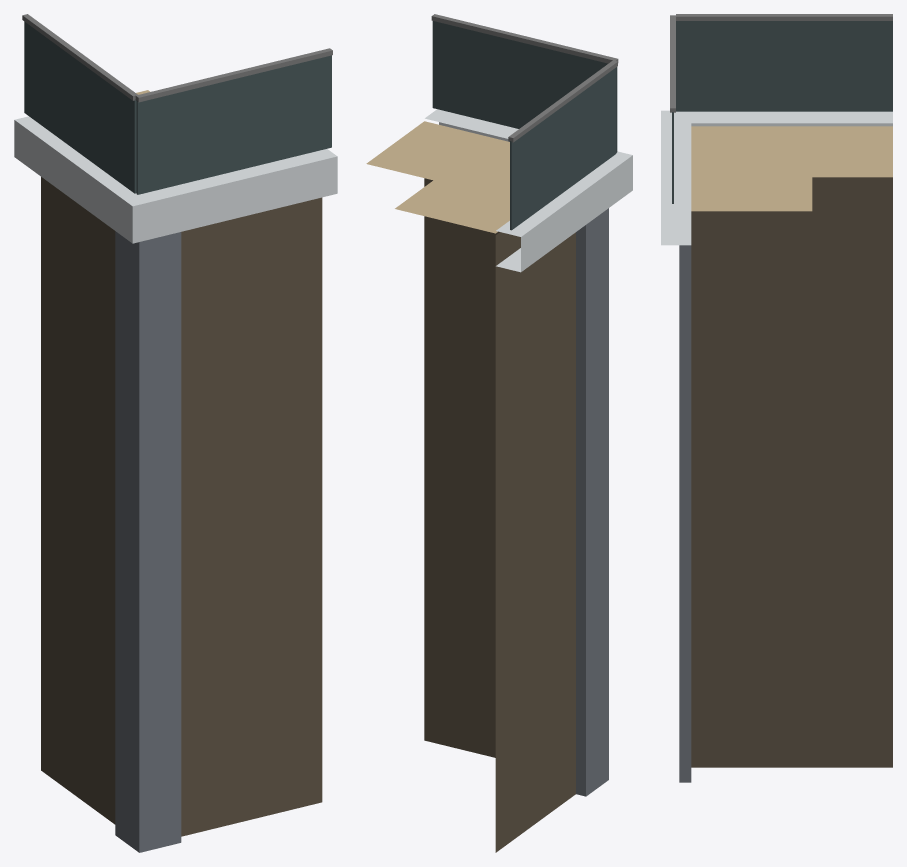
The picture shows the model from 3 angles, left to right: view 1: azimuth 30°, elevation 25°; view 2: azimuth 150°, elevation 25°; view 3: azimuth 270°, elevation 25°; orthographic projection. The views are drawn at different scales.
Visible parts, largest first — view 1: a2010/0/base-c1; view 2: a2010/0/base-c1; view 3: a2010/0/base-c1.
Boxes of the visible parts, x1=… form: a2010/0/base-c1: x1=14, y1=14, x2=337, y2=852; a2010/0/base-c1: x1=366, y1=14, x2=632, y2=852; a2010/0/base-c1: x1=661, y1=14, x2=892, y2=782.
Bounding box in the file's own units: 2.3 × 8.15 × 2.3.
